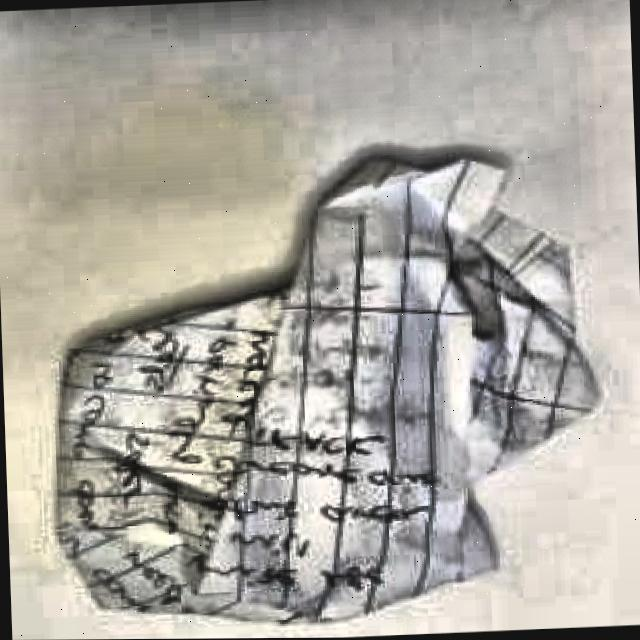paper: (44, 149, 606, 639)
